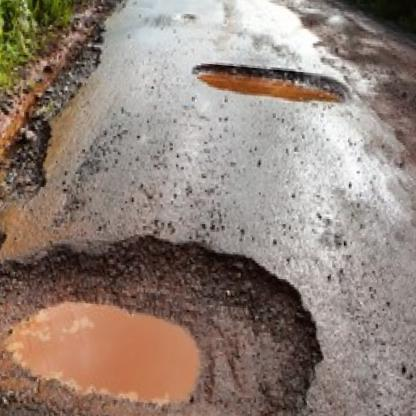pothole: (0, 213, 332, 416), (187, 60, 352, 109)
